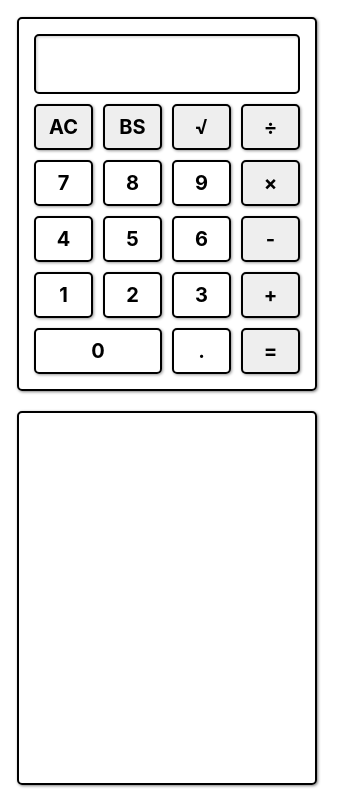
Scenario: 계산기 테스트 › 2 × 2 × 2 == 8
Expected: the element with test id "display" is empty, [34,34,300,94]
Click the button "2" at (132, 295), box [103,272,162,318]
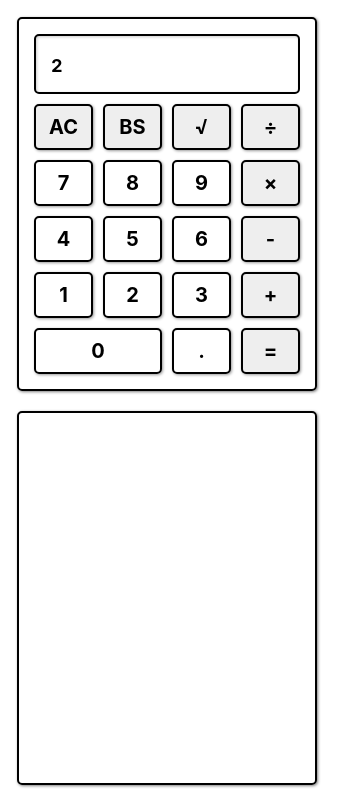
Click the button "×" at (270, 183), box [241,160,300,206]
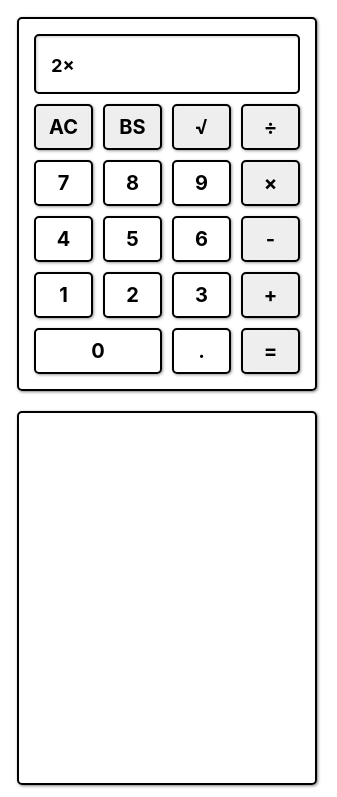
Click the button "2" at (132, 295), box [103,272,162,318]
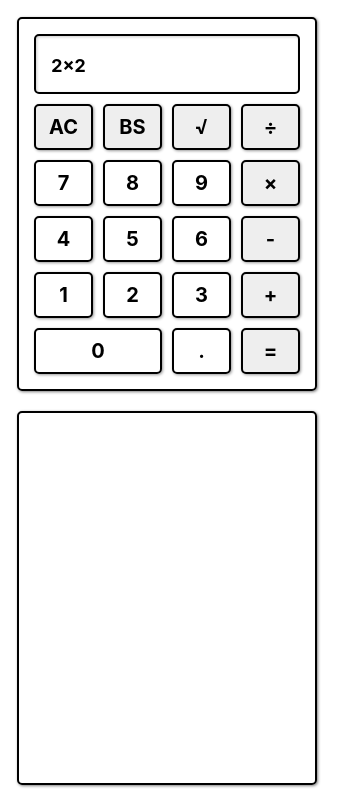
Click the button "×" at (270, 183), box [241,160,300,206]
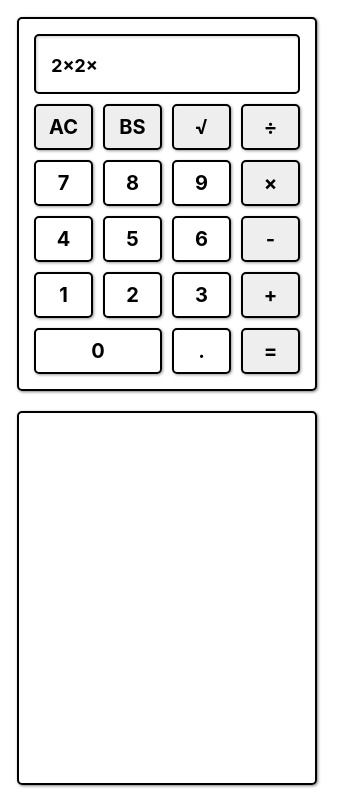
Click the button "2" at (132, 295), box [103,272,162,318]
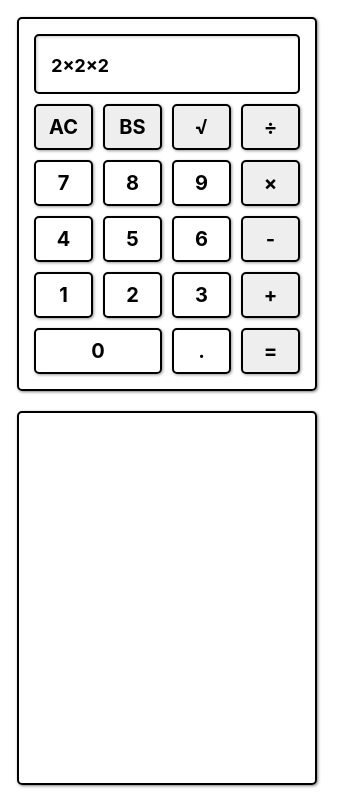
Expected: the text with test id "display" reads "2×2×2", [51,55,109,76]
Click the button "=" at (270, 351), box [241,328,300,374]
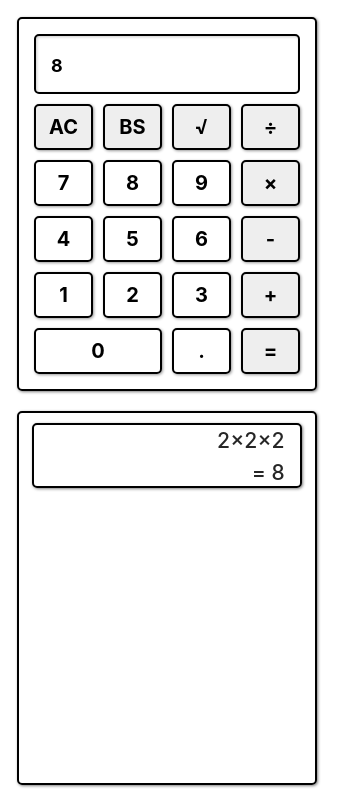
Expected: the text with test id "display" reads "8", [51,55,63,76]
